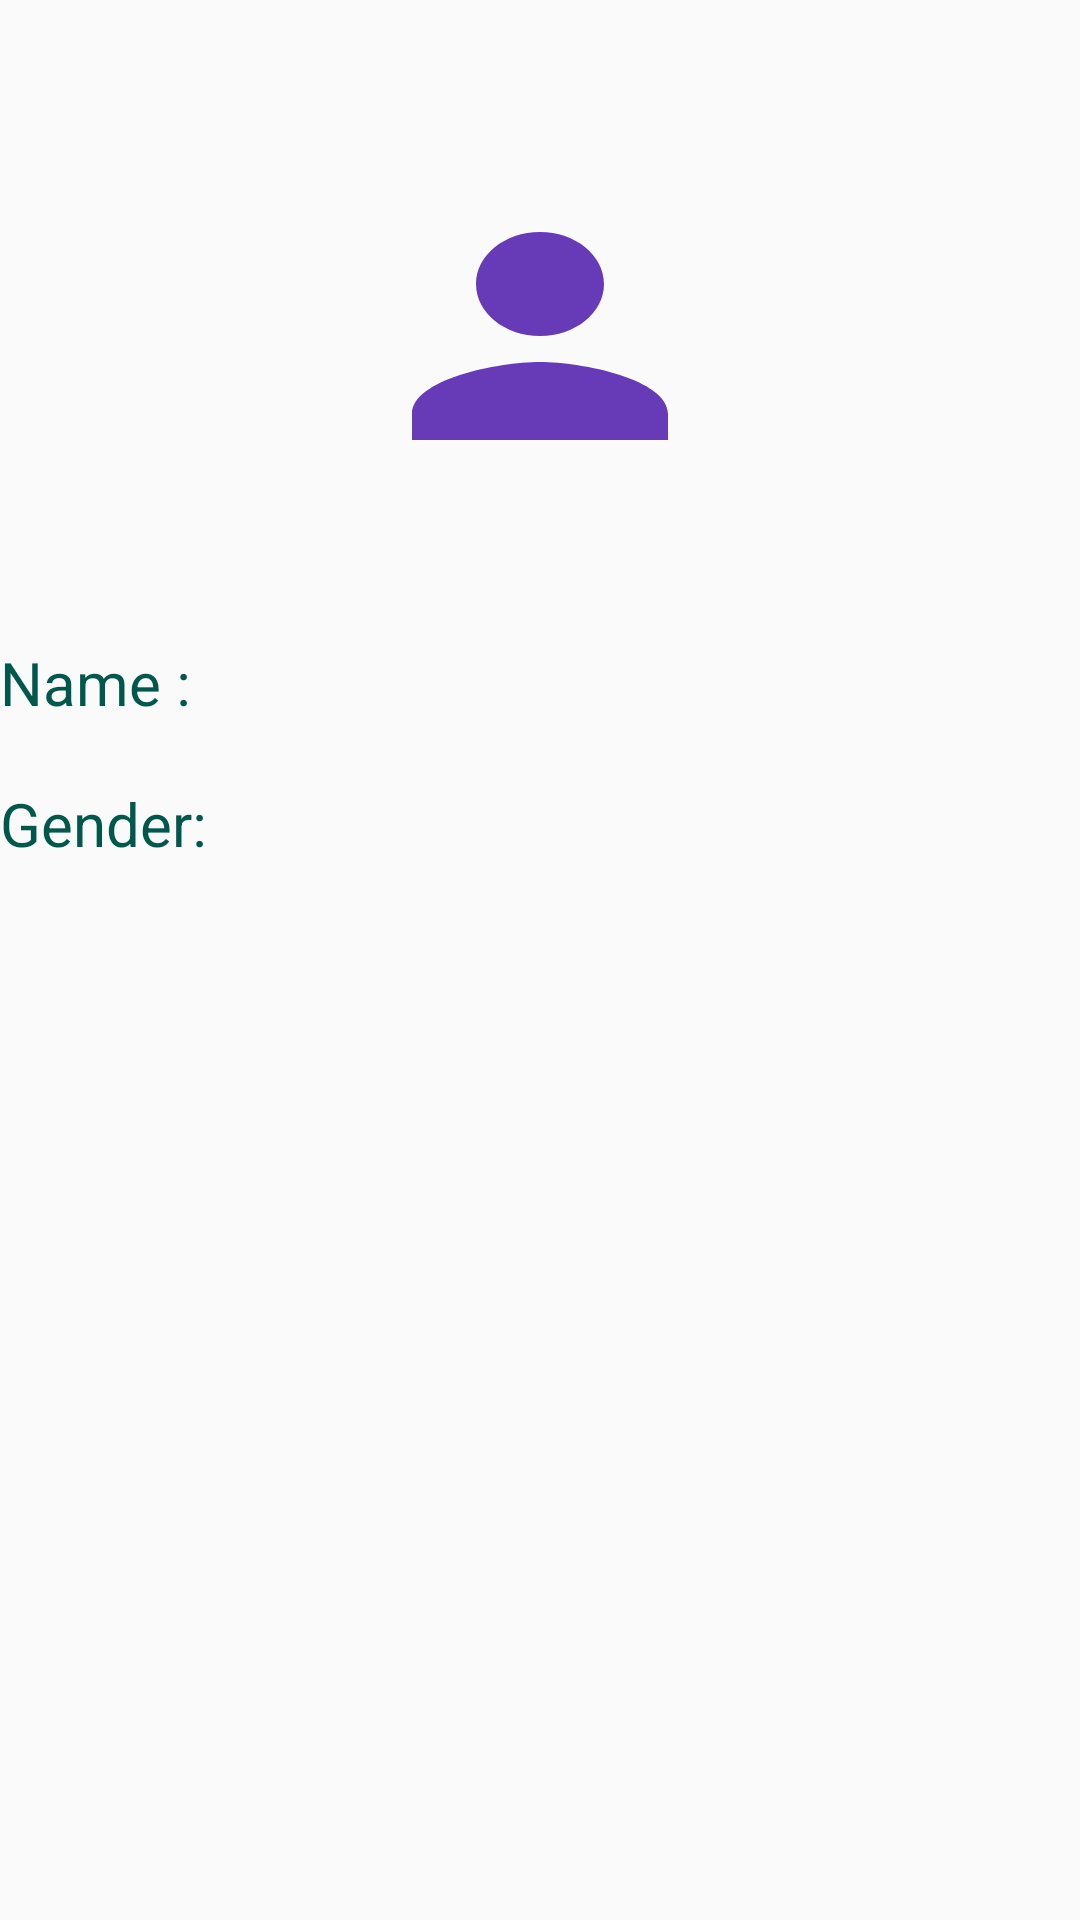

Locate icon controls on the screen. Image size 1080px×1920px, boxes as (x1, y1, x2, y2).
person: (412, 232, 668, 440)
